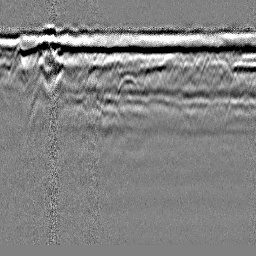cavity: (117, 70, 139, 95)
